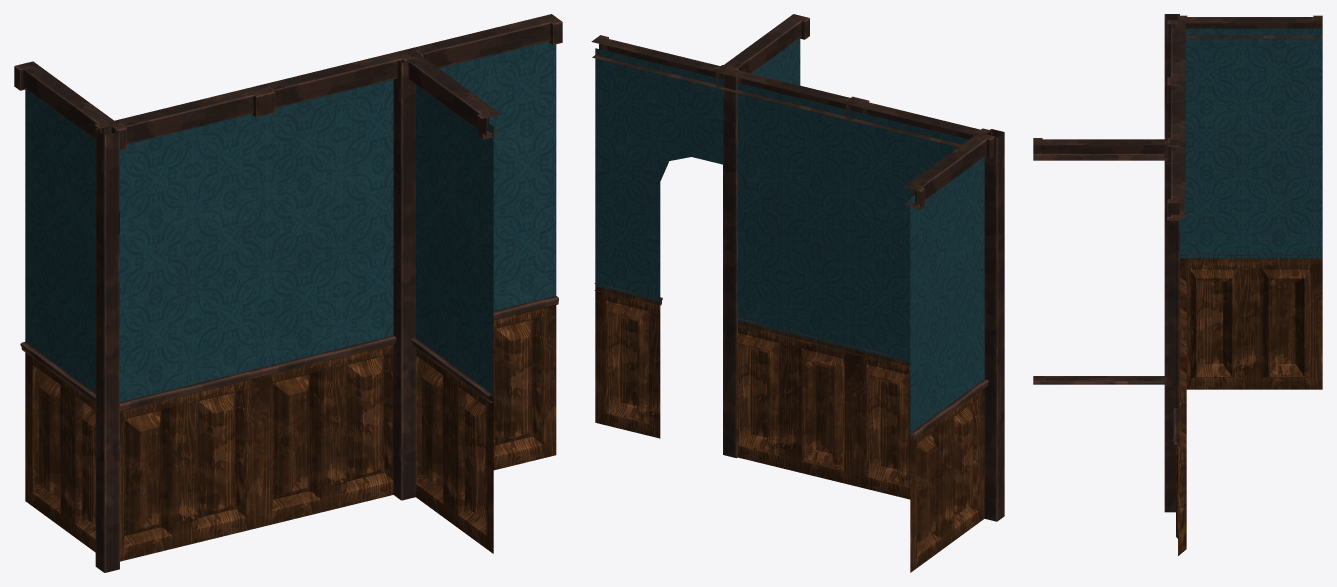
The model's file is holl_wall.fbx.
The picture shows the model from 3 angles, left to right: view 1: azimuth 30°, elevation 25°; view 2: azimuth 150°, elevation 25°; view 3: azimuth 270°, elevation 25°; orthographic projection. The views are drawn at different scales.
Visible parts, largest first — view 1: holl_gg, holl_g, holl_d, holl_wall; view 2: holl_gg, holl_d, holl_wall, holl_g; view 3: holl_gg, holl_g, holl_d, holl_wall.
Part boxes in pixels (x1,y1,x2,y2): holl_gg: [14, 61, 265, 572]; holl_g: [260, 50, 500, 553]; holl_d: [257, 14, 562, 526]; holl_wall: [255, 50, 413, 527]; holl_gg: [852, 98, 1004, 572]; holl_d: [591, 35, 860, 484]; holl_wall: [722, 68, 859, 485]; holl_g: [719, 14, 856, 458]; holl_gg: [1164, 14, 1322, 389]; holl_g: [1033, 81, 1185, 512]; holl_d: [1167, 81, 1186, 555]; holl_wall: [1167, 81, 1186, 434].
Size of the model in its own units: 310 by 282 by 200.
